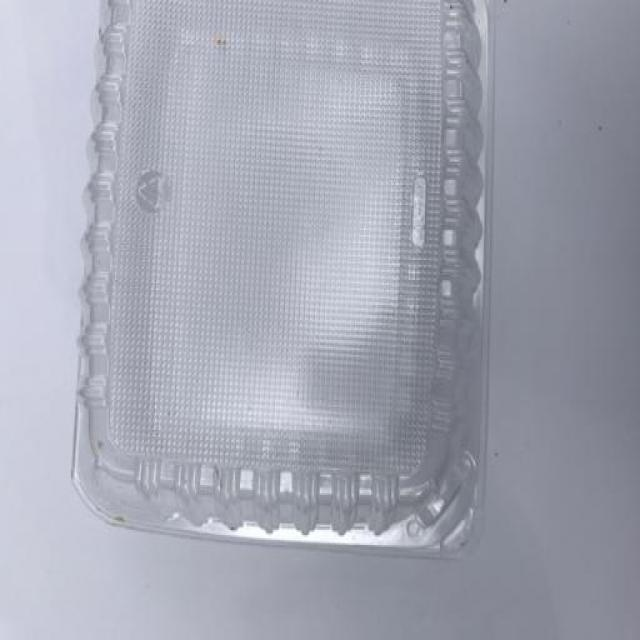plastic: (56, 1, 542, 583)
